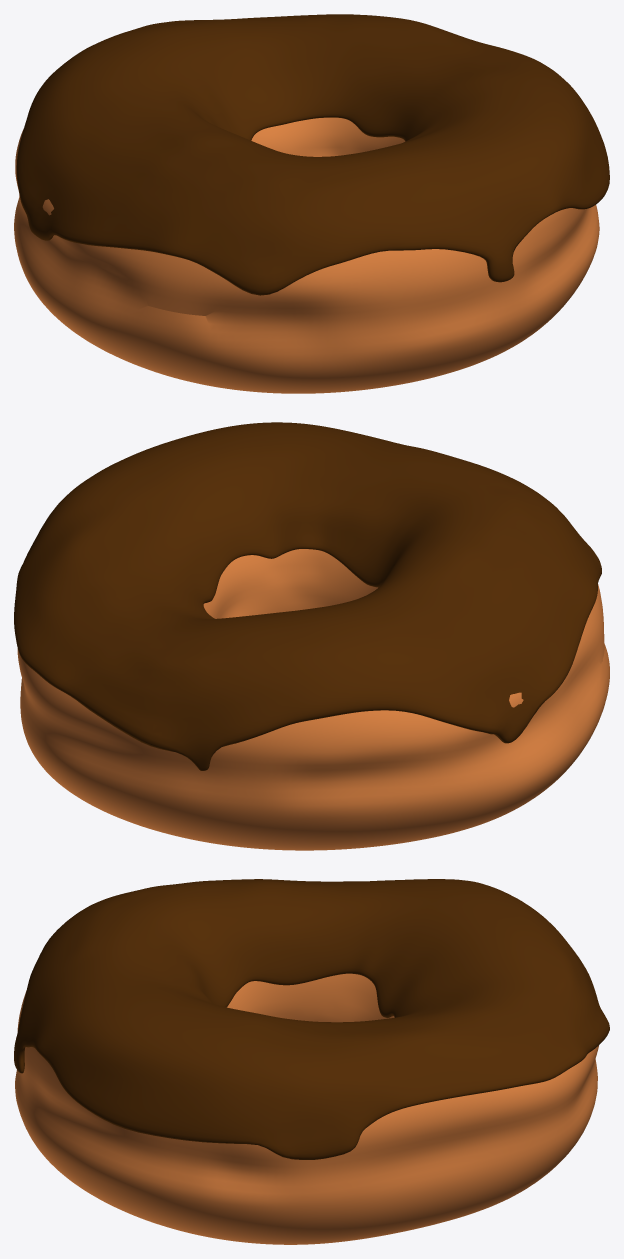
File: donutWithoutCompression.glb
3 views of the same model, one above another, from view 1: azimuth 30°, elevation 25°; view 2: azimuth 150°, elevation 25°; view 3: azimuth 270°, elevation 25° (orthographic). The views are drawn at different scales.
Parts seen in each view (by area): view 1: Icing, Donut; view 2: Icing, Donut; view 3: Icing, Donut.
Boxes of the visible parts, x1,y1,x2,y2 form: Icing: (16, 14, 609, 295); Donut: (14, 117, 599, 393); Icing: (14, 422, 601, 770); Donut: (17, 549, 609, 850); Icing: (14, 879, 609, 1159); Donut: (15, 973, 598, 1244).
Bounding box in the file's own units: 0.148 × 0.061 × 0.152.
